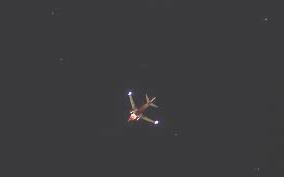Plane: (92, 75, 186, 134)
